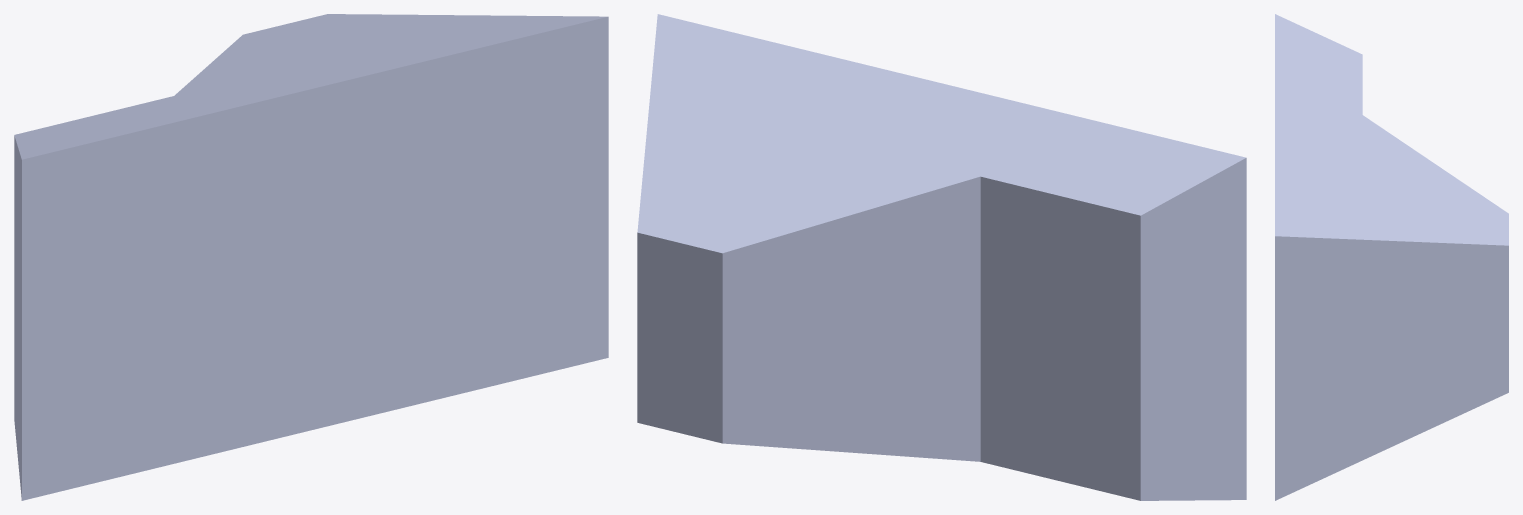
3 views of the same model, side by side, from view 1: azimuth 30°, elevation 25°; view 2: azimuth 150°, elevation 25°; view 3: azimuth 270°, elevation 25° (orthographic). The views are drawn at different scales.
Visible parts, largest first — view 1: 拉伸1; view 2: 拉伸1; view 3: 拉伸1.
Boxes of the visible parts, left/top/right/bottom form: 拉伸1: left=14, top=14, right=608, bottom=500; 拉伸1: left=637, top=14, right=1246, bottom=500; 拉伸1: left=1275, top=14, right=1508, bottom=500.
Size of the model in its own units: 3.54 by 1.97 by 1.57.
